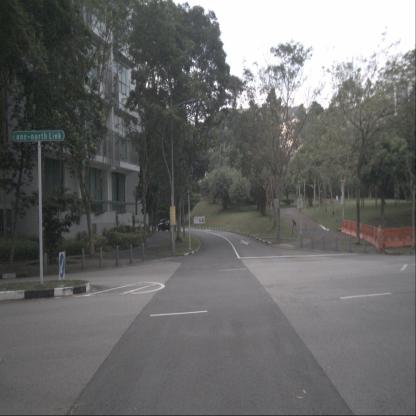movable_object-barrier: (383, 227, 405, 248), (371, 225, 384, 252), (403, 226, 416, 248), (363, 224, 374, 245), (351, 222, 359, 237), (340, 219, 348, 234), (345, 220, 352, 236), (358, 224, 364, 240)
vehicle-car: (158, 218, 170, 232)
